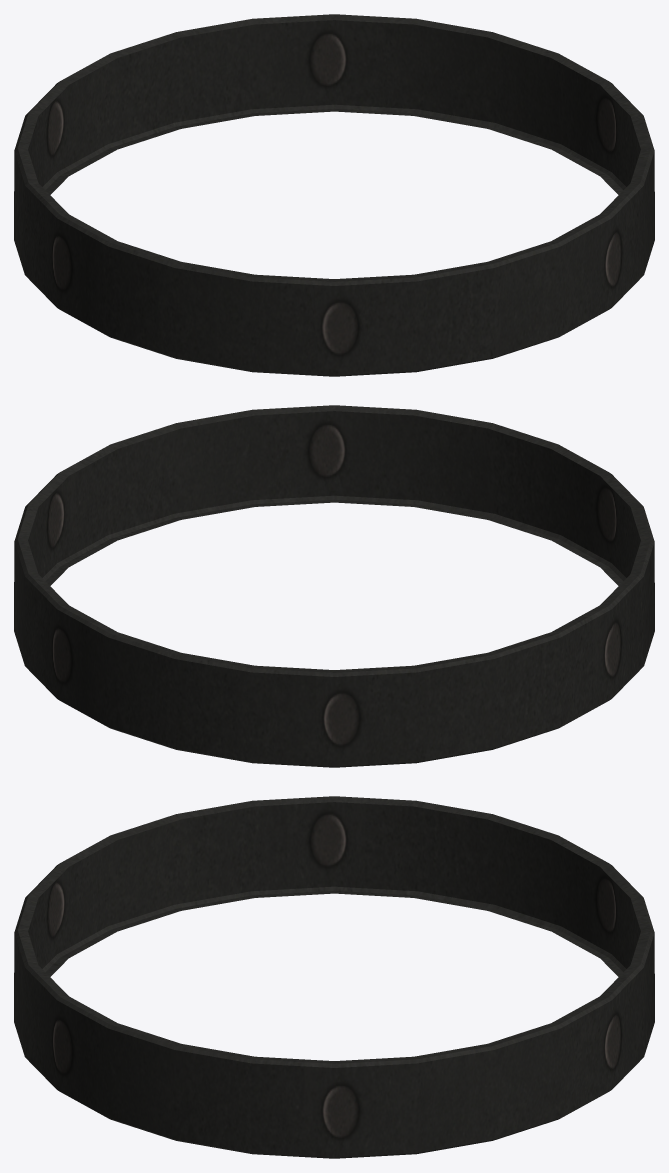
File: SM_Pi_Ornament01A.fbx
3 renders of one model, top to bottom at view 1: azimuth 30°, elevation 25°; view 2: azimuth 150°, elevation 25°; view 3: azimuth 270°, elevation 25°, orthographic.
Visible parts, largest first — view 1: SM_Pi_Ornament01A; view 2: SM_Pi_Ornament01A; view 3: SM_Pi_Ornament01A.
Part boxes in pixels (x1=…): SM_Pi_Ornament01A: x1=14, y1=14, x2=654, y2=376; SM_Pi_Ornament01A: x1=14, y1=405, x2=654, y2=767; SM_Pi_Ornament01A: x1=14, y1=796, x2=654, y2=1158.
Bounding box in the file's own units: 19.28 × 19.28 × 3.14.
1 material, 1 textured.
